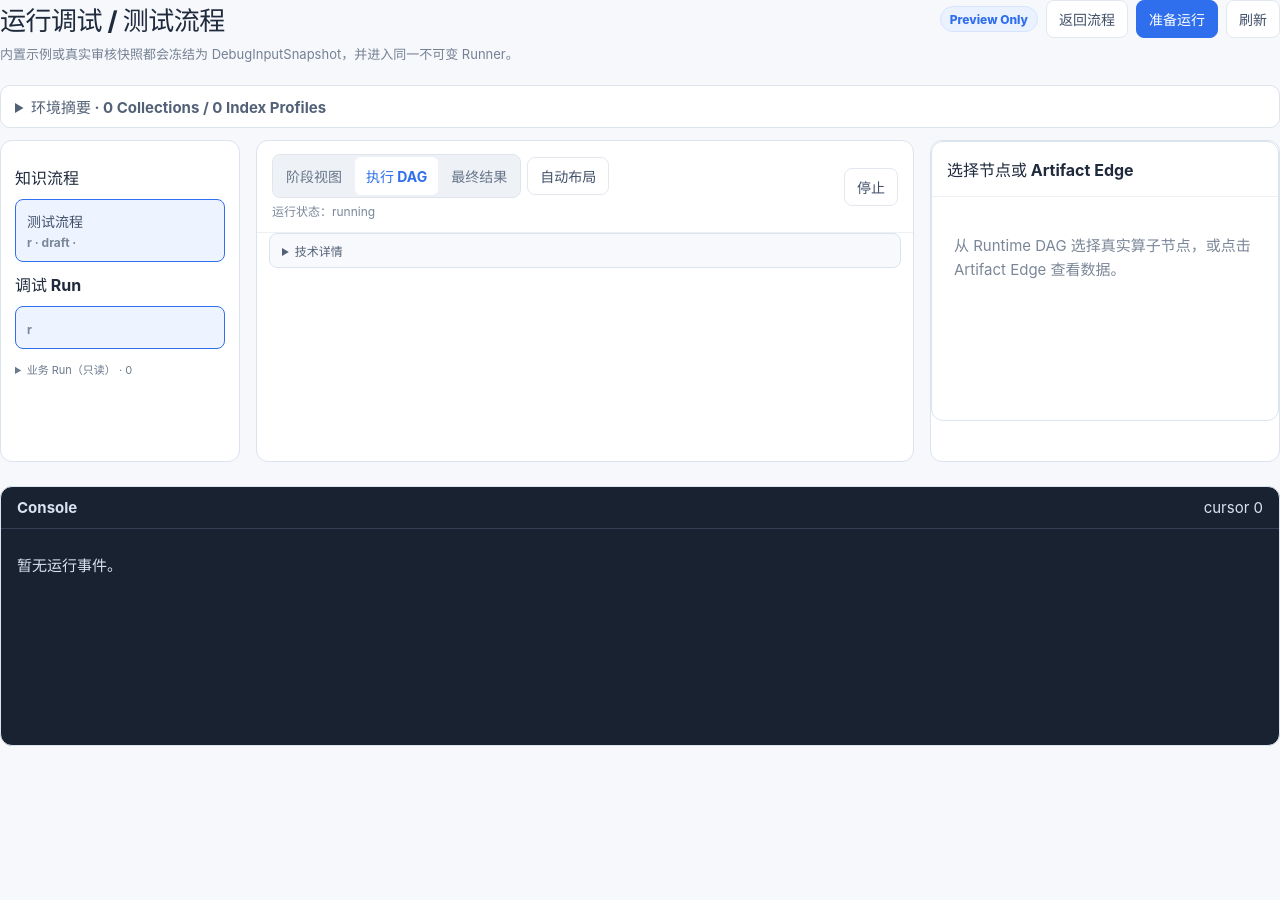
shows automatic preflight progress, blocks start on failure, and allows manual retry
The width and height of the screenshot is (1280, 900).
Click the button "准备运行".
click(1177, 19)  # box [1136, 0, 1218, 38]
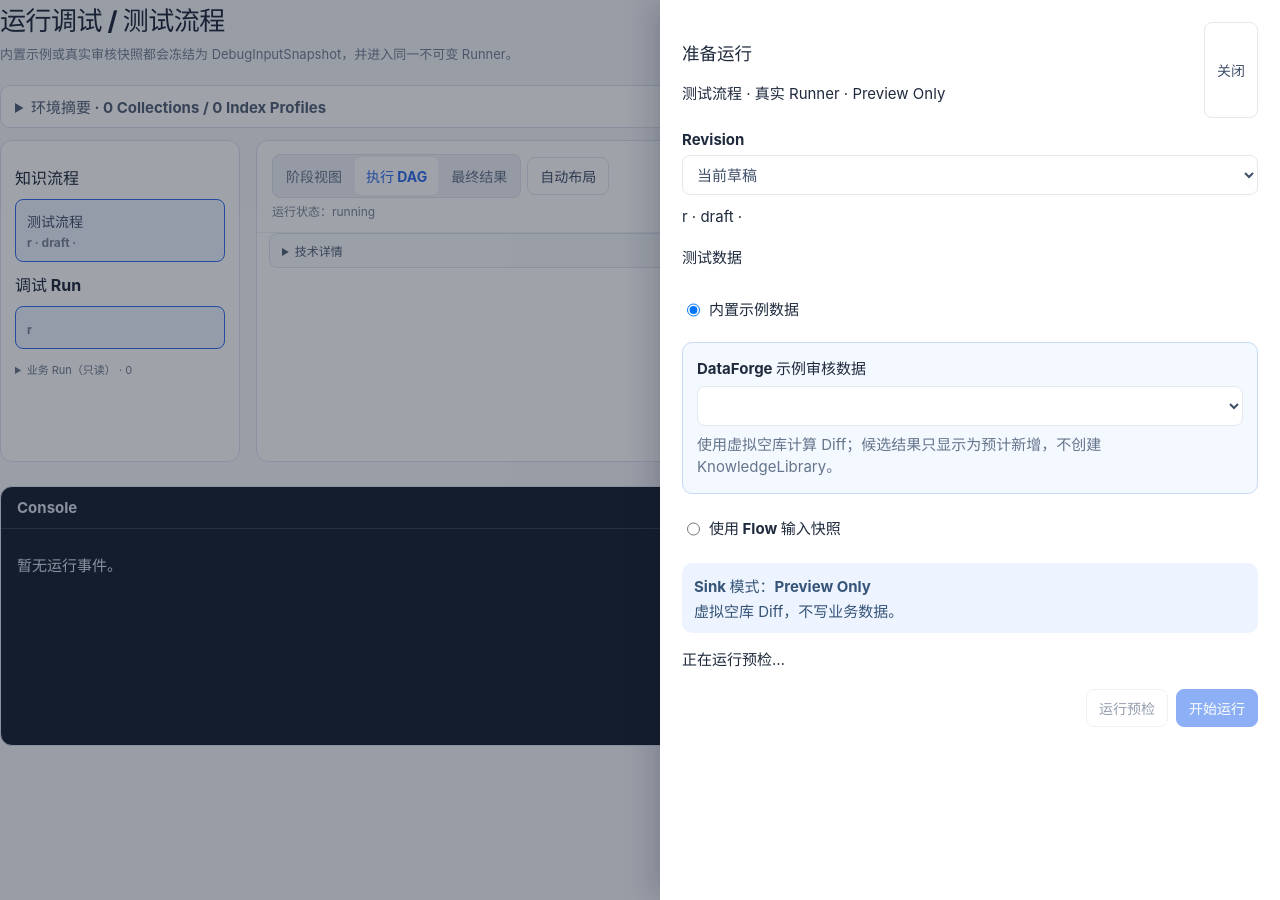
expect the message "正在运行预检…" is shown: met, box [682, 650, 785, 669]
expect the button "开始运行" is disabled: met
Click the button "开始运行".
click(1217, 708)  # box [1176, 689, 1258, 727]
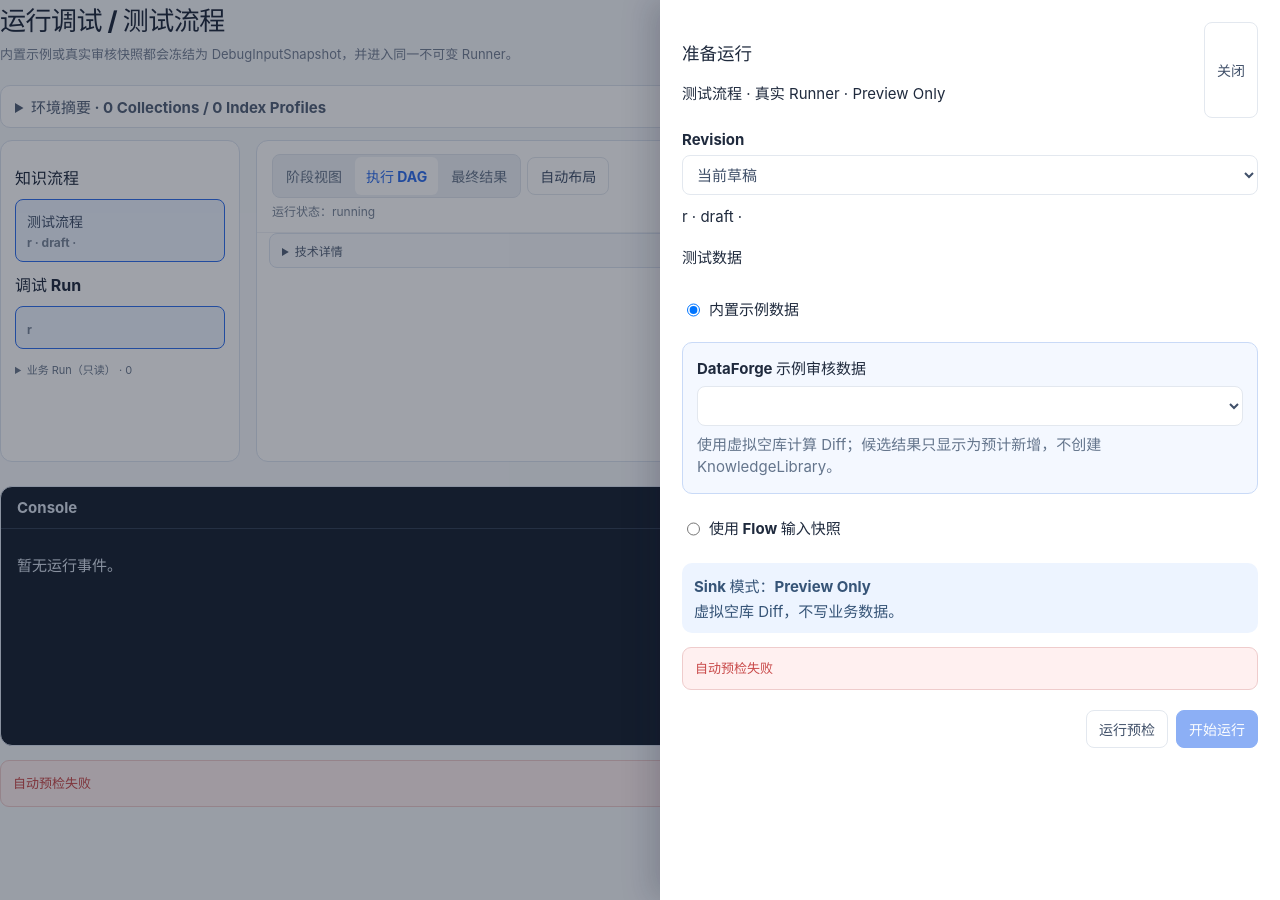
expect the button "开始运行" is disabled: met, box [1176, 710, 1258, 748]
expect the message "自动预检失败" is shown: met, box [682, 647, 1258, 690]
Click the button "运行预检".
click(1127, 729)  # box [1086, 710, 1168, 748]
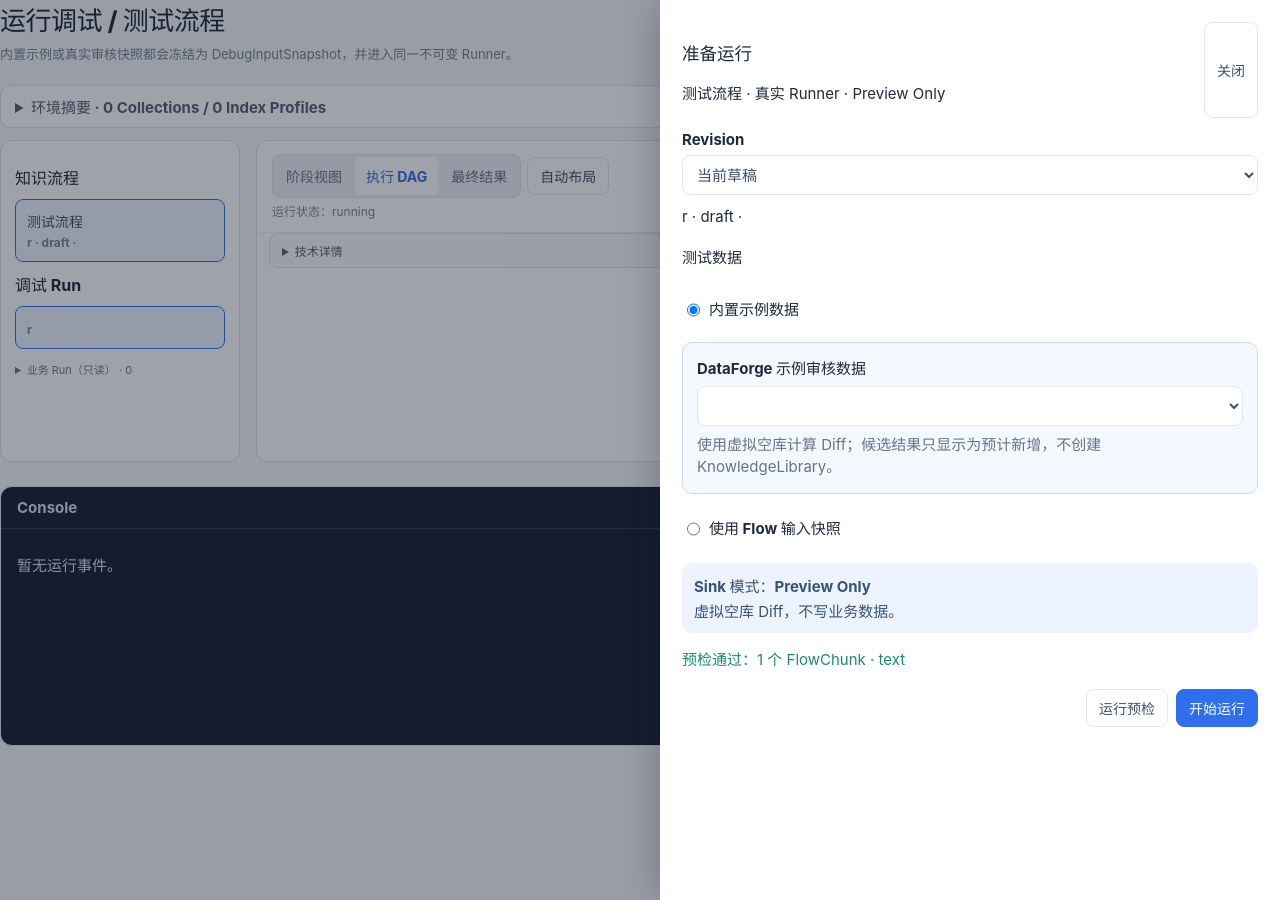
expect the message "预检通过：1 个 FlowChunk · text" is shown: met, box [682, 650, 905, 669]
